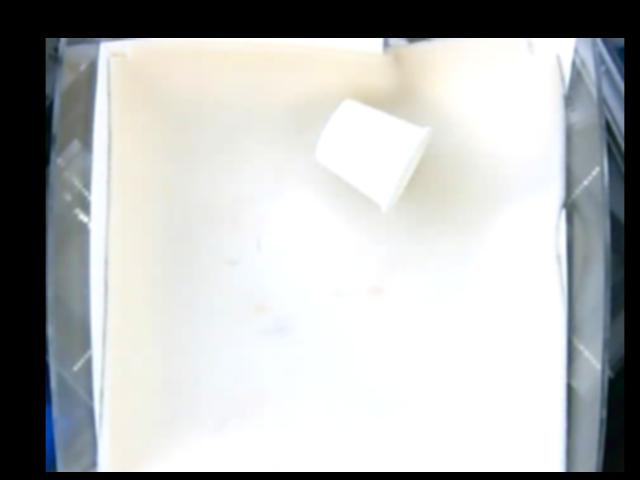Cup: (312, 97, 429, 212)
